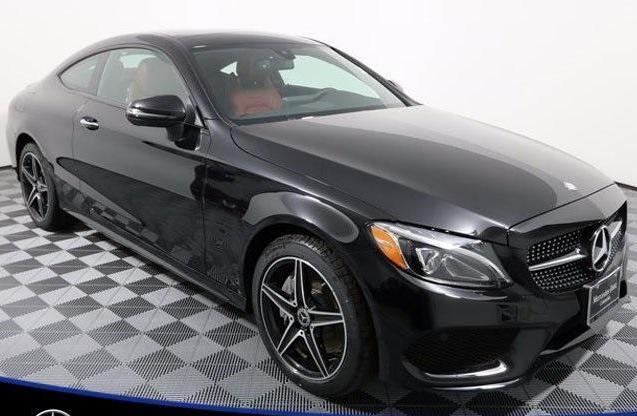C300Coupe: (6, 21, 630, 401)
